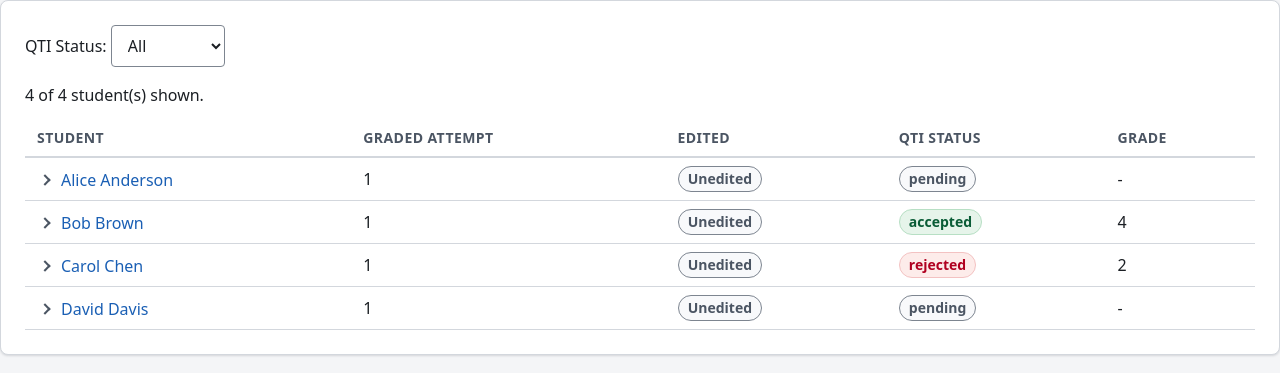
Test: Queue › filters by status
Select "accepted" in the dropdown labelled "QTI Status:" at (168, 46), box left=111, top=25, right=225, bottom=67
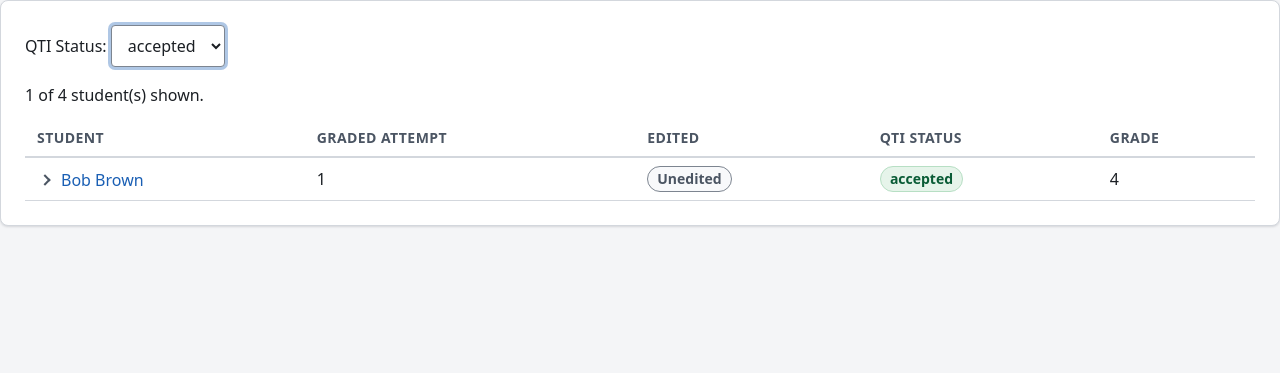
Expected: the button "Bob Brown" is shown, left=37, top=168, right=144, bottom=192
Expected: the text "1 of 4 student(s) shown." is shown, left=25, top=84, right=204, bottom=106
Expected: the button "Alice Anderson" is gone
